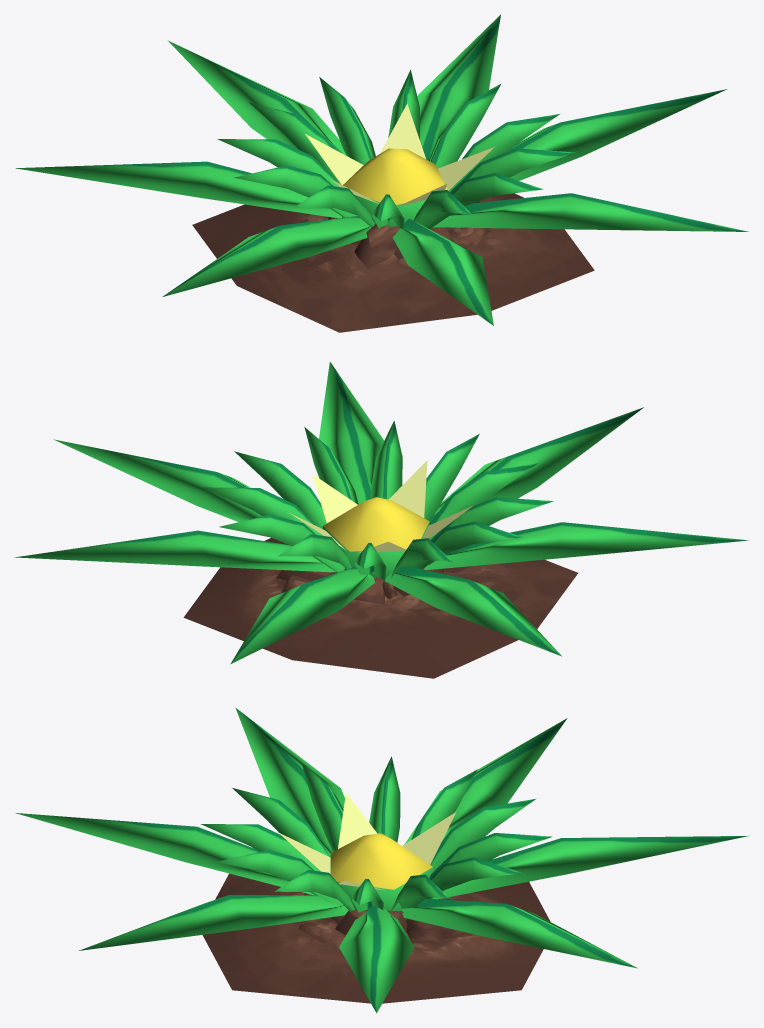
File: PineapplePlant.fbx
3 views of the same model, one above another, from view 1: azimuth 30°, elevation 25°; view 2: azimuth 150°, elevation 25°; view 3: azimuth 270°, elevation 25° (orthographic).
Visible parts, largest first — view 1: PineapplePlant, Dirtplane; view 2: PineapplePlant, Dirtplane; view 3: PineapplePlant, Dirtplane.
Boxes of the visible parts, x1,y1,x2,y2 form: PineapplePlant: (15, 14, 748, 325); Dirtplane: (192, 193, 594, 332); PineapplePlant: (14, 362, 748, 664); Dirtplane: (183, 537, 577, 678); PineapplePlant: (15, 708, 749, 1013); Dirtplane: (202, 873, 550, 1003).
Size of the model in its own units: 384 by 59.54 by 391.
